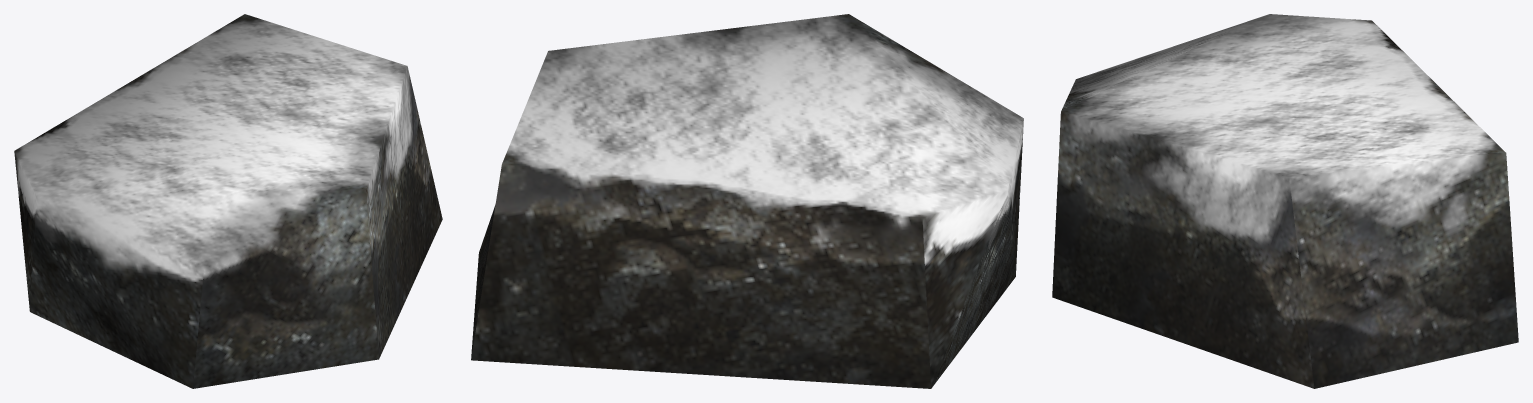
Rendered from Rock_small1.fbx.
The picture shows the model from 3 angles, left to right: view 1: azimuth 30°, elevation 25°; view 2: azimuth 150°, elevation 25°; view 3: azimuth 270°, elevation 25°; orthographic projection. The views are drawn at different scales.
Parts seen in each view (by area): view 1: polySurface2; view 2: polySurface2; view 3: polySurface2.
Part boxes in pixels (box(x1,y1,x2,y2)): polySurface2: box(14, 14, 442, 388); polySurface2: box(471, 14, 1023, 388); polySurface2: box(1052, 14, 1518, 388).
Size of the model in its own units: 0.168 by 0.0688 by 0.1483.
